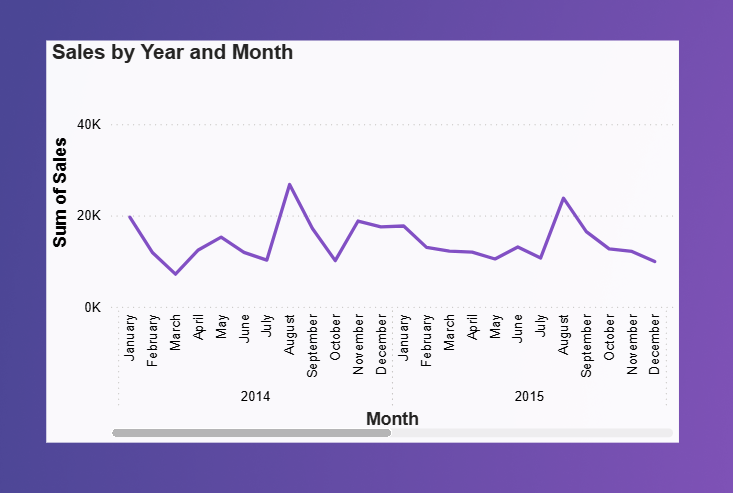

The page's visual inventory and layout, read from the dashboard file:
{"tool":"powerbi","page":{"name":"Sales by Year and Month","canvas":[1280,720],"ordinal":2},"visuals":[{"type":"lineChart","title":"Sales by Year and Month","fields":{"Y":["Sum(Sample - Superstore.Sales)"],"Category":["Sample - Superstore.Year","Sample - Superstore.Order Date.Variation.Date Hierarchy.Month"]},"box":[187.5,161.2,752.5,362.5],"z":0}]}

Visuals, with their boxes on the page's 1280x720 design canvas (x1, y1, x2, y2). These are canvas units, not pixel positions in the 733x493 screenshot, which may show the page scaled, cropped or inside an application window:
"Sales by Year and Month" lineChart: [188,161,940,524]
